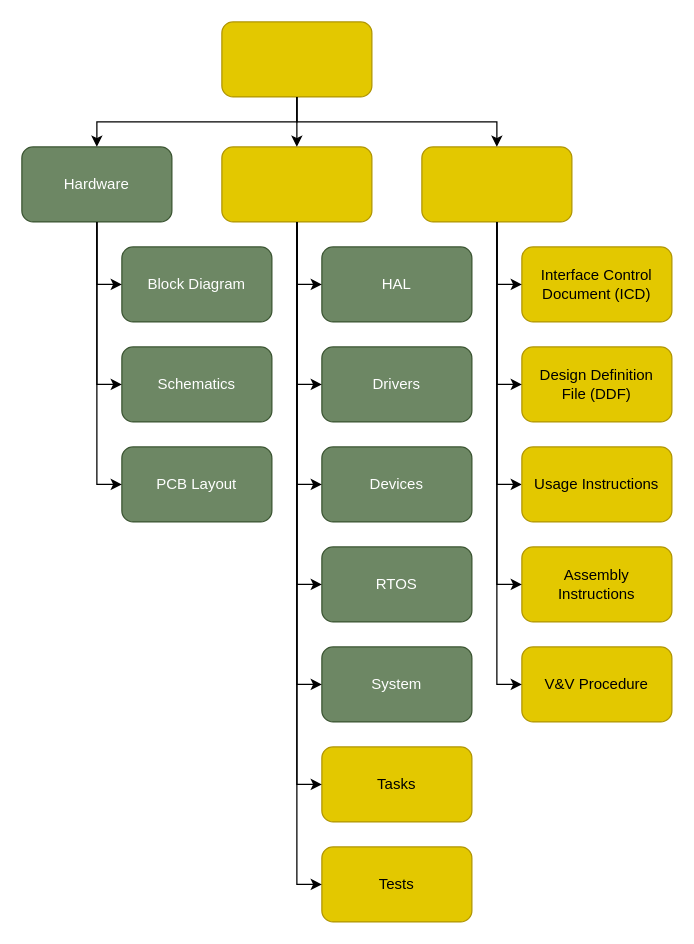
Image size: 694x944. Some labels were removed from this diagram. The centre of each missing label's shape, as x and y in pixels:
Documentation: pixel 496 184
EPS 2.0: pixel 296 59
Firmware: pixel 296 184
